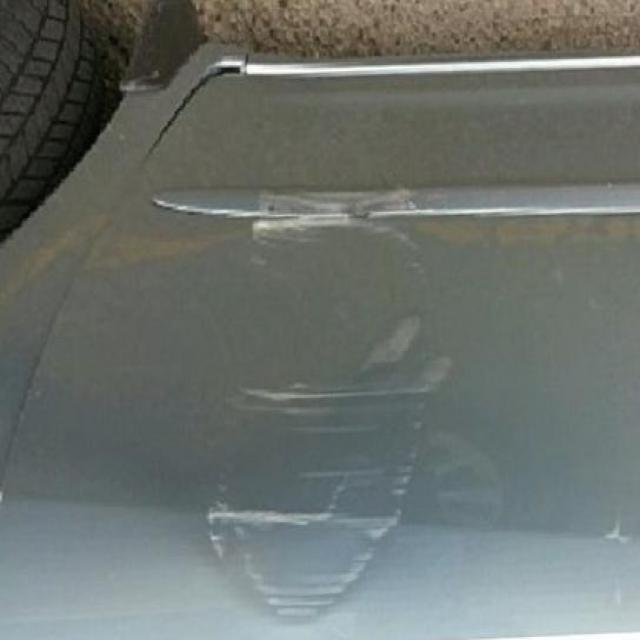scratch: (212, 163, 432, 640)
